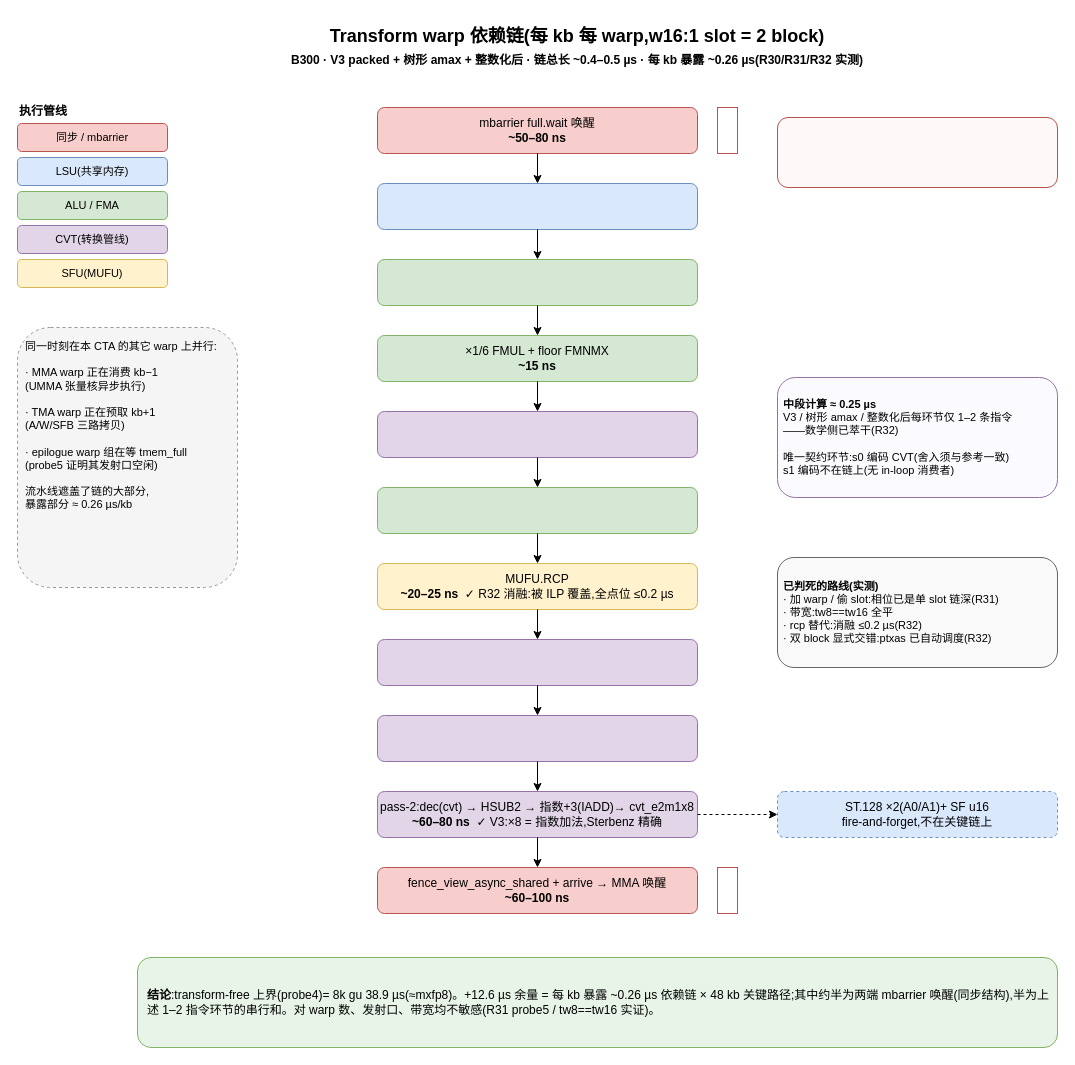
This 1075x1065 diagram has some shape labels left out. The shapes that lost their labels are listed below. From the top down, each one's box as (x1, y1, x2, y2) in pixels, then its label:
(776, 116, 1058, 188): 同步两端 ≈ 0.11–0.18 µs ≈ 暴露链之半,mbarrier 唤醒延迟 属硬件属性——fused 流水线的定义性成本
(376, 182, 698, 230): LDS.128 ×4(swizzled,批量前置发射) ~40–60 ns
(376, 258, 698, 306): amax 树 ×2 block 交错(VHMNMX) ~50–60 ns ✓ R31:深度 7→3
(376, 410, 698, 458): CVT f32→e4m3(s0 编码) ~20–25 ns ❄ 舍入契约,不可替代
(376, 486, 698, 534): s0 整数解码 (code<<20)+0x3C000000 ~7 ns ✓ V3:原 2×CVT 已整数化
(376, 638, 698, 686): CVT f32→bf16x2 打包(inv 广播) ~15 ns
(376, 714, 698, 762): pass-1:HMUL2 ×4 → cvt_e2m1x8_bf16x2 ~50–70 ns ✓ V3:4 对/条 asm 向量打包
